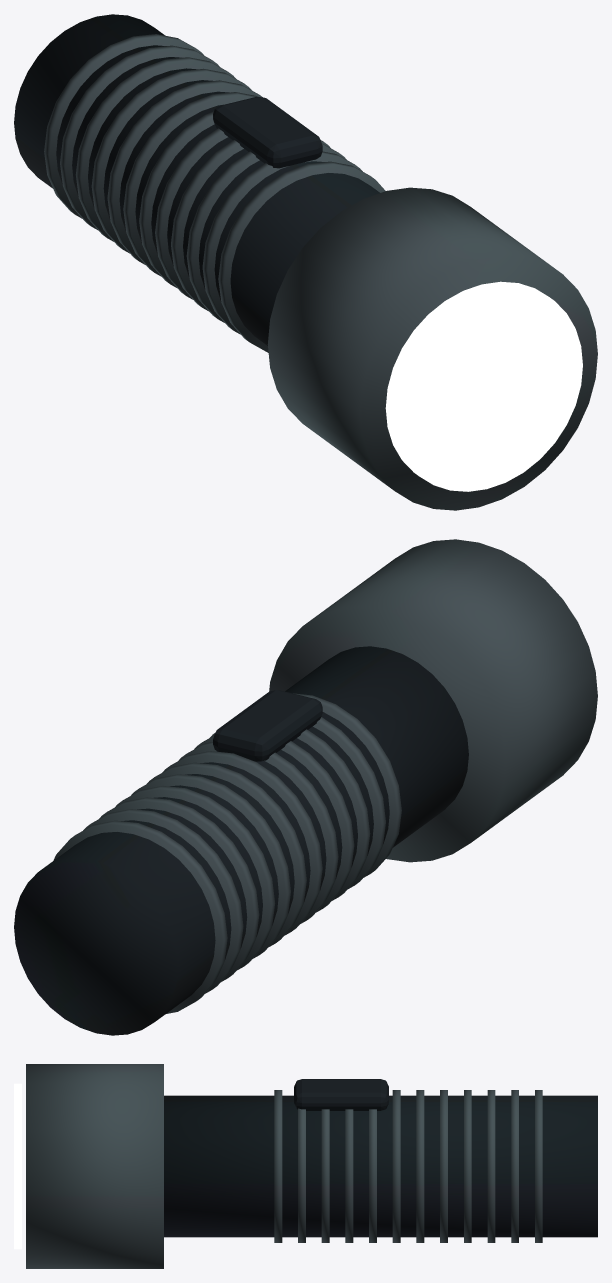
File: PROP_Flashlight.mobile.glb
The picture shows the model from 3 angles, top to bottom: view 1: azimuth 30°, elevation 25°; view 2: azimuth 150°, elevation 25°; view 3: azimuth 270°, elevation 25°; orthographic projection. The views are drawn at different scales.
Parts seen in each view (by area): view 1: PROP_Flashlight; view 2: PROP_Flashlight; view 3: PROP_Flashlight.
Part boxes in pixels (x1=…): PROP_Flashlight: x1=14, y1=14, x2=597, y2=510; PROP_Flashlight: x1=14, y1=539, x2=597, y2=1035; PROP_Flashlight: x1=14, y1=1064, x2=597, y2=1268.
Bounding box in the file's own units: 0.052 × 0.052 × 0.148.
2 materials, 1 textured.
